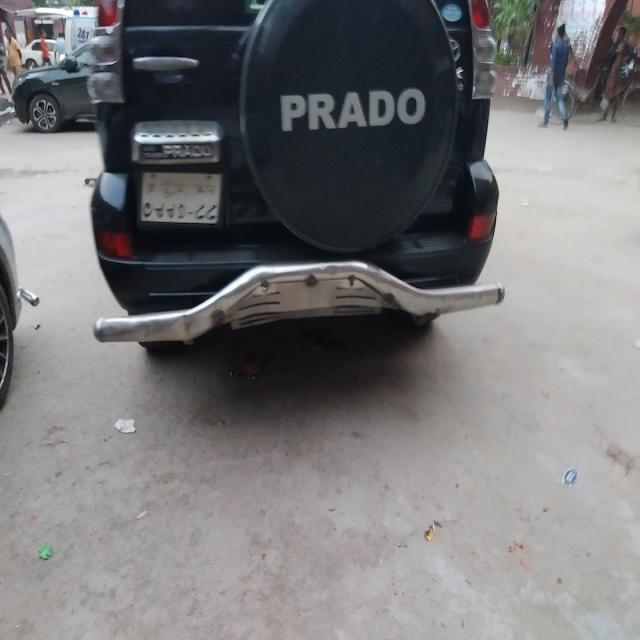numberplate: (137, 167, 226, 228)
